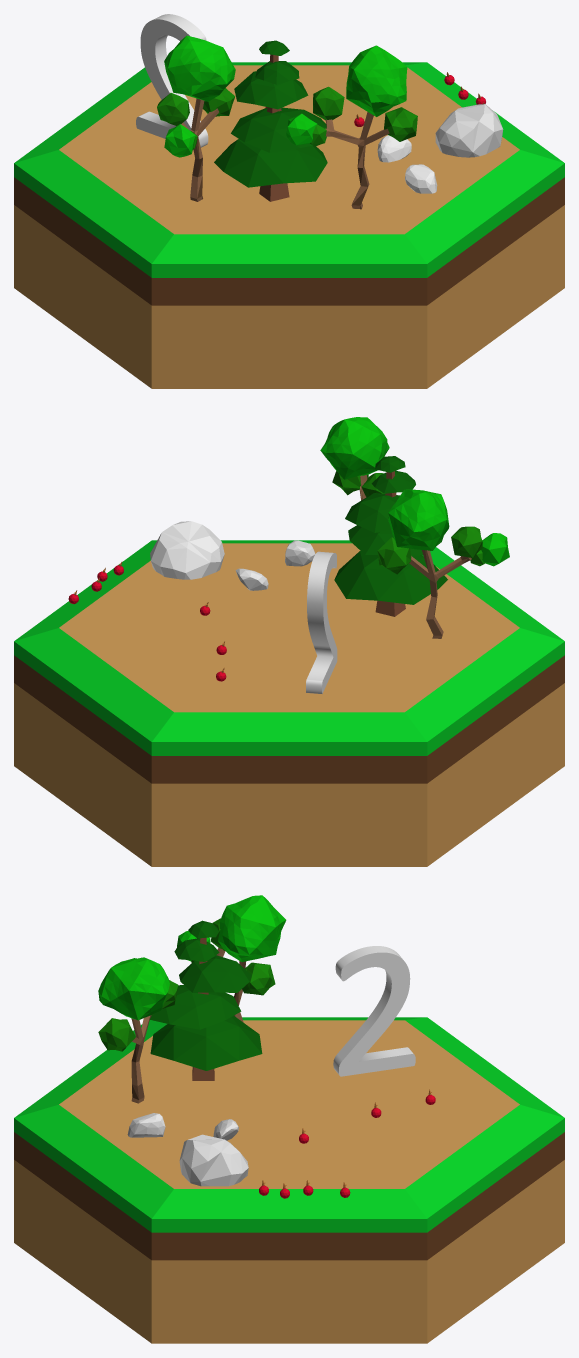
Rendered from Nivel2.fbx.
3 renders of one model, top to bottom at view 1: azimuth 30°, elevation 25°; view 2: azimuth 150°, elevation 25°; view 3: azimuth 270°, elevation 25°, orthographic.
Parts seen in each view (by area): view 1: Nivel1_Geometrico, Plane.001, Arvore2, Arvore1, Text, Sphere, Sphere.002, Sphere.001; view 2: Nivel1_Geometrico, Plane.001, Arvore1, Arvore2, Sphere, Text, Sphere.002; view 3: Nivel1_Geometrico, Plane.001, Text, Arvore2, Arvore1, Sphere, Sphere.002.
Part boxes in pixels (x1,y1,x2,y2): Nivel1_Geometrico: [14, 62, 564, 388]; Plane.001: [214, 40, 327, 201]; Arvore2: [286, 45, 417, 209]; Arvore1: [157, 35, 235, 201]; Text: [136, 14, 208, 147]; Sphere: [435, 104, 503, 157]; Sphere.002: [405, 164, 437, 193]; Sphere.001: [377, 135, 411, 162]; Nivel1_Geometrico: [14, 540, 564, 866]; Plane.001: [334, 456, 447, 616]; Arvore1: [377, 489, 509, 638]; Arvore2: [320, 417, 389, 500]; Sphere: [150, 521, 224, 579]; Text: [306, 551, 337, 693]; Sphere.002: [285, 540, 315, 566]; Nivel1_Geometrico: [14, 1017, 564, 1343]; Plane.001: [150, 920, 262, 1080]; Text: [333, 946, 415, 1076]; Arvore2: [98, 957, 178, 1103]; Arvore1: [177, 895, 286, 1022]; Sphere: [179, 1134, 248, 1186]; Sphere.002: [127, 1113, 165, 1137].
Bounding box in the file's own units: 173 × 117 × 200.
